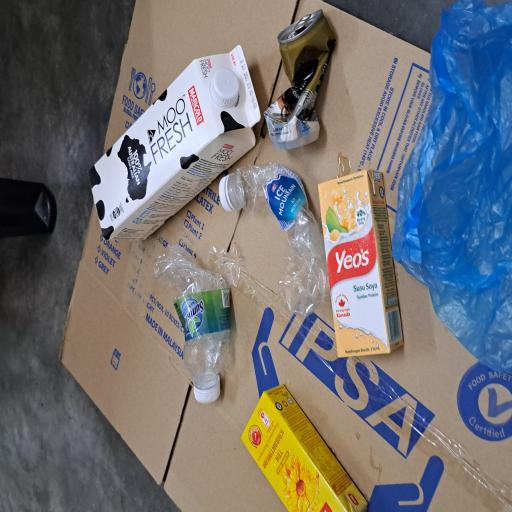can: (269, 345, 377, 450)
cardboard: (0, 77, 384, 512)
drink carton: (204, 118, 348, 348), (0, 320, 96, 490), (117, 422, 255, 512)
plastic bottle: (148, 290, 262, 430), (81, 210, 201, 308)
plastic bottle cap: (303, 278, 334, 320), (226, 290, 258, 319), (79, 258, 101, 296)
